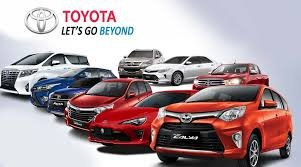mobil: (152, 83, 298, 167), (90, 89, 193, 152), (1, 49, 80, 94)
